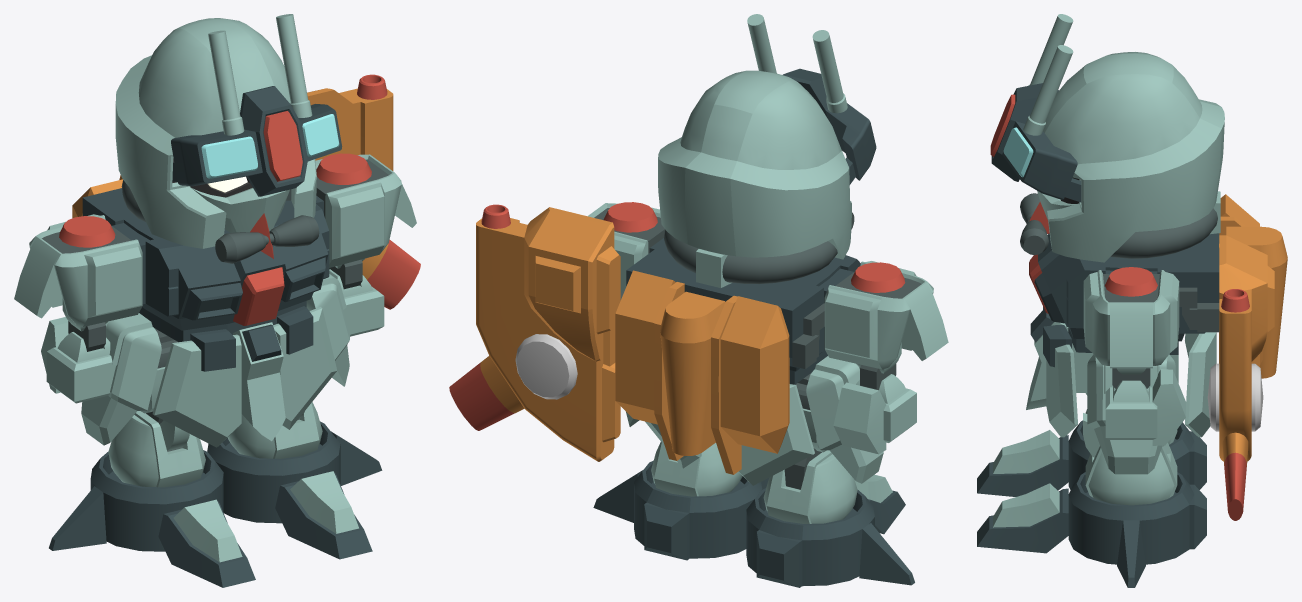
Rendered from gundiver_test01.glb.
3 renders of one model, left to right at view 1: azimuth 30°, elevation 25°; view 2: azimuth 150°, elevation 25°; view 3: azimuth 270°, elevation 25°, orthographic. The views are drawn at different scales.
Visible parts, largest first — view 1: RightForeArm_GR_polySurface176; view 2: RightForeArm_GR_polySurface176; view 3: RightForeArm_GR_polySurface176.
Part boxes in pixels (x1,y1,x2,y2): RightForeArm_GR_polySurface176: (14, 14, 420, 587); RightForeArm_GR_polySurface176: (449, 14, 948, 587); RightForeArm_GR_polySurface176: (977, 14, 1287, 587).
Bounding box in the file's own units: 0.1476 × 0.1608 × 0.0941.
